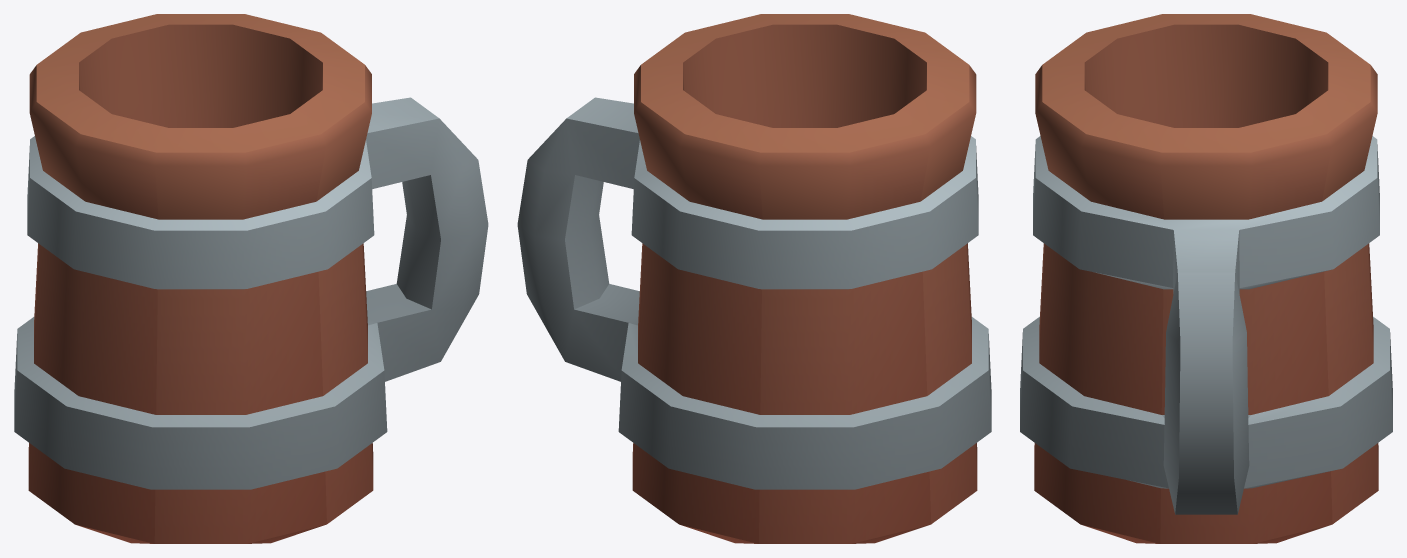
The model's file is mug_empty.glb.
The picture shows the model from 3 angles, left to right: view 1: azimuth 30°, elevation 25°; view 2: azimuth 150°, elevation 25°; view 3: azimuth 270°, elevation 25°; orthographic projection.
Visible parts, largest first — view 1: mug_empty; view 2: mug_empty; view 3: mug_empty.
Part boxes in pixels (x1,y1,x2,y2): mug_empty: (14,14,488,543); mug_empty: (517,14,991,543); mug_empty: (1020,14,1392,543).
Size of the model in its own units: 0.5342 by 0.4867 by 0.396.
1 material, 1 textured.
